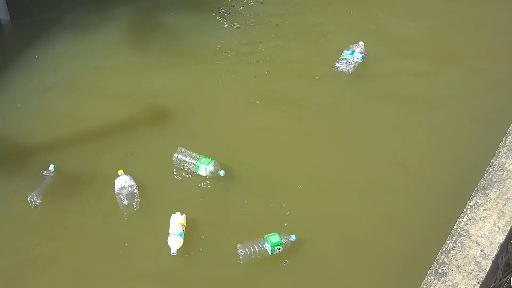plastic: (171, 146, 238, 184), (230, 234, 312, 260), (155, 204, 197, 251), (322, 37, 371, 75), (26, 167, 71, 205), (110, 165, 139, 217)
